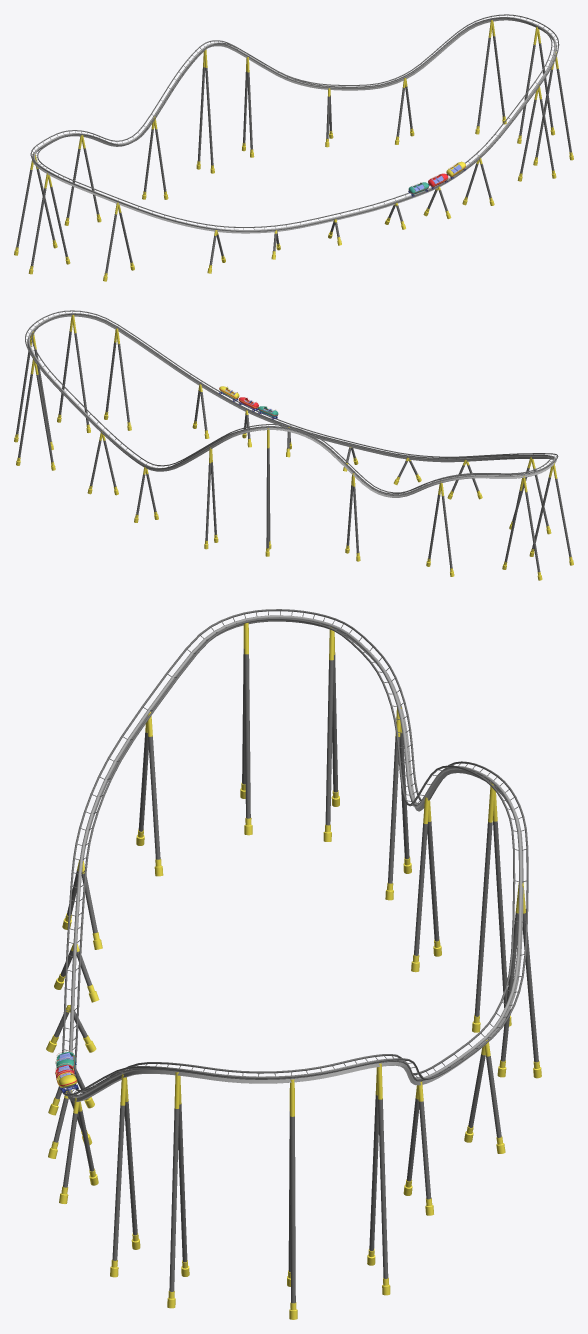
The model's file is MONTAÑA RUSA.glb.
3 views of the same model, one above another, from view 1: azimuth 30°, elevation 25°; view 2: azimuth 150°, elevation 25°; view 3: azimuth 270°, elevation 25° (orthographic). The views are drawn at different scales.
Parts seen in each view (by area): view 1: Plane.005, Plane.004, Plane.008; view 2: Plane.005, Plane.004, Plane.008; view 3: Plane.005, Plane.004, Plane.008, Plane.002.
Part boxes in pixels (box(x1,y1,x2,y2)): Plane.005: box(14, 20, 573, 281); Plane.004: box(32, 17, 556, 233); Plane.008: box(30, 14, 559, 231); Plane.005: box(14, 315, 573, 580); Plane.004: box(27, 313, 556, 497); Plane.008: box(25, 310, 558, 494); Plane.005: box(46, 622, 541, 1319); Plane.004: box(67, 615, 523, 1101); Plane.008: box(61, 609, 528, 1096); Plane.002: box(64, 611, 526, 1096).
Size of the model in its own units: 3.55 by 0.7938 by 1.42.
